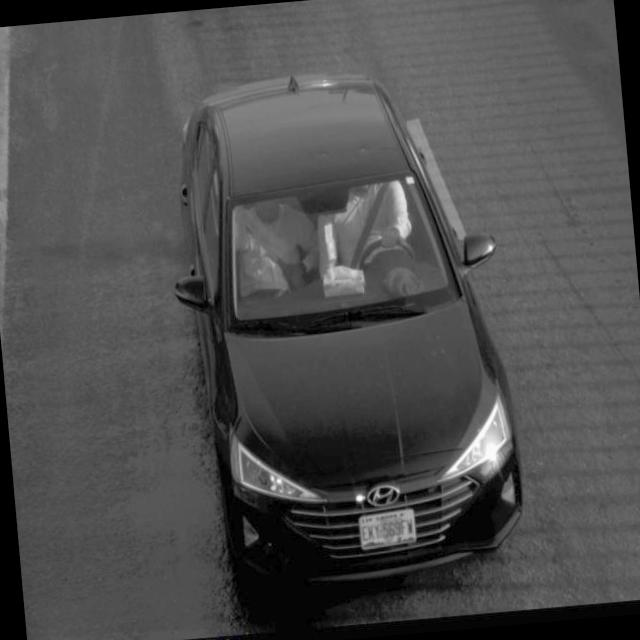person_with_seatbelt: (322, 165, 424, 306)
